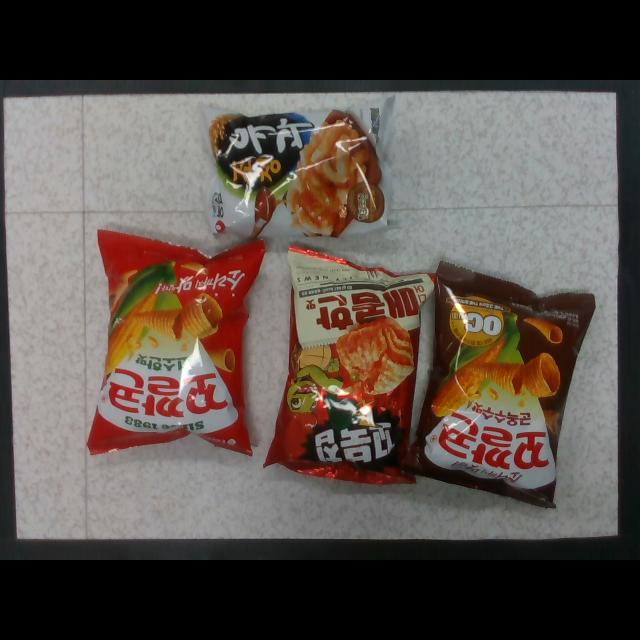bongji: (404, 262, 596, 508), (265, 246, 435, 485), (87, 230, 265, 455), (204, 100, 392, 237)
